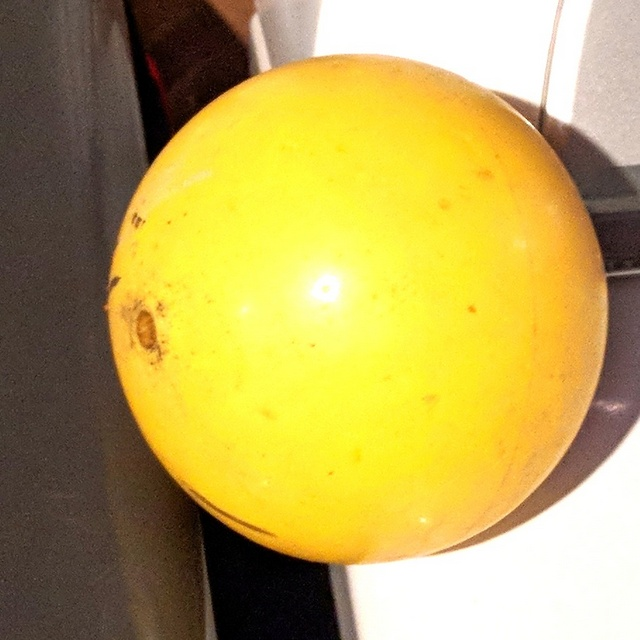ball: (107, 57, 615, 568)
